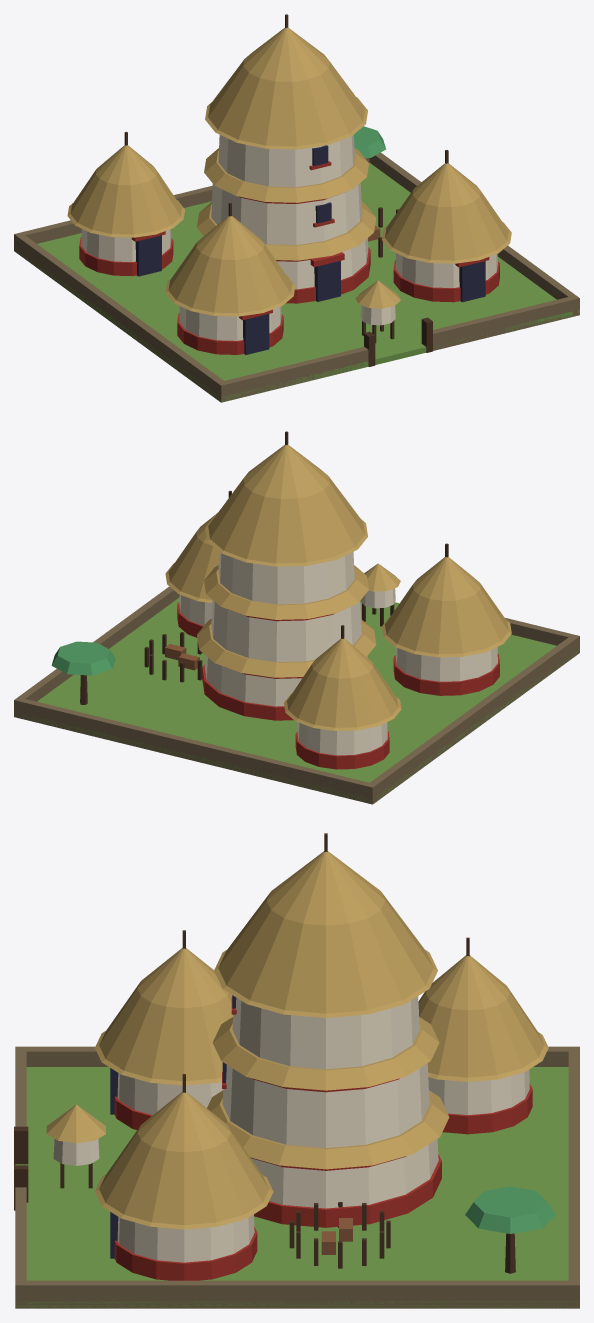
File: house-2x2-3f-rondavel-a-solar.glb
The picture shows the model from 3 angles, top to bottom: view 1: azimuth 30°, elevation 25°; view 2: azimuth 150°, elevation 25°; view 3: azimuth 270°, elevation 25°; orthographic projection. The views are drawn at different scales.
Parts seen in each view (by area): view 1: house-2x2-3f-rondavel-a-solar; view 2: house-2x2-3f-rondavel-a-solar; view 3: house-2x2-3f-rondavel-a-solar.
Boxes of the visible parts, x1,y1,x2,y2 form: house-2x2-3f-rondavel-a-solar: (14,14,579,402); house-2x2-3f-rondavel-a-solar: (14,431,579,804); house-2x2-3f-rondavel-a-solar: (14,833,579,1308).
Size of the model in its own units: 1.99 by 1.38 by 2.
1 material, 1 textured.
